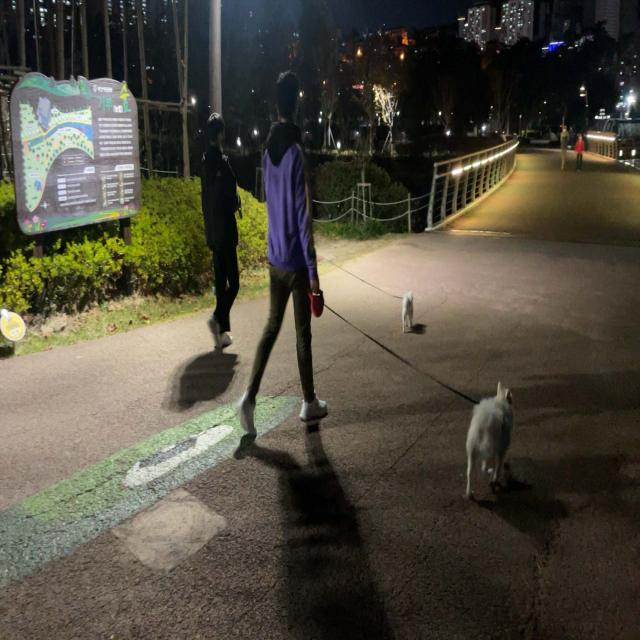Leashed_Dog: (280, 232, 514, 501), (220, 200, 414, 334)
